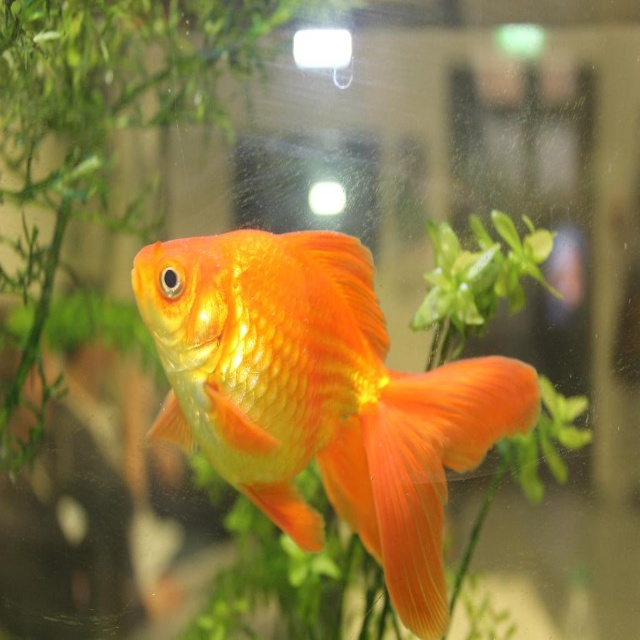Goldfish: (132, 228, 541, 629)
